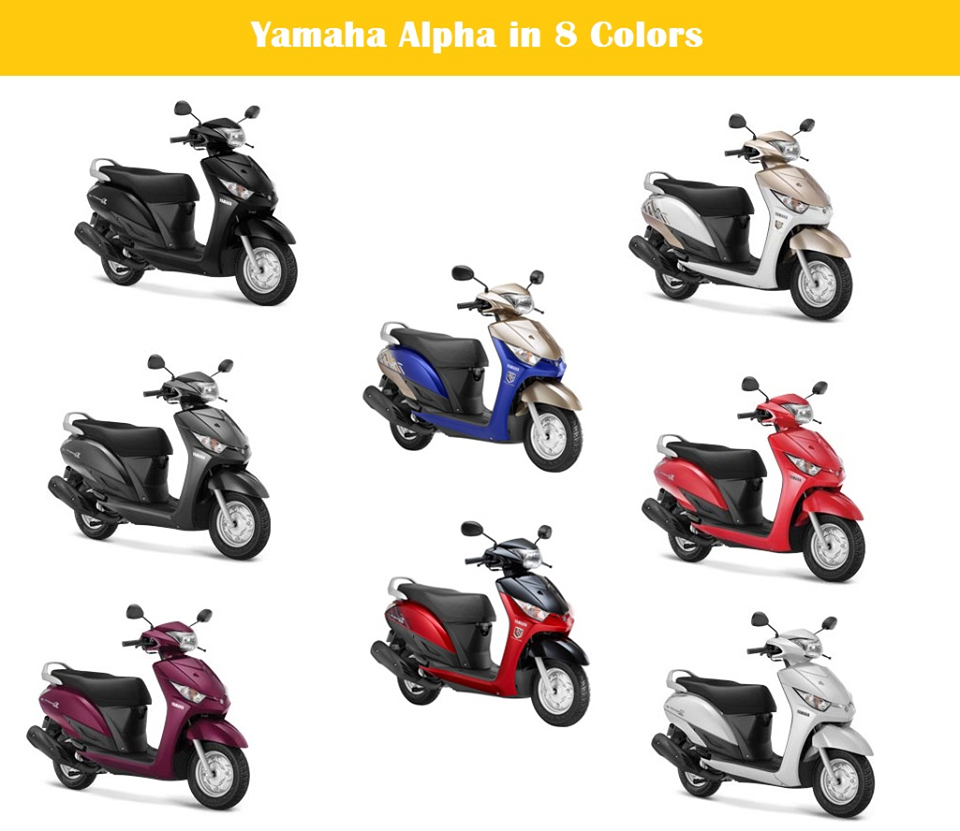bike: (19, 598, 253, 813), (41, 352, 274, 563), (638, 375, 868, 588), (362, 261, 586, 476), (72, 96, 300, 306), (651, 606, 875, 817), (630, 113, 855, 321), (366, 522, 589, 726)
